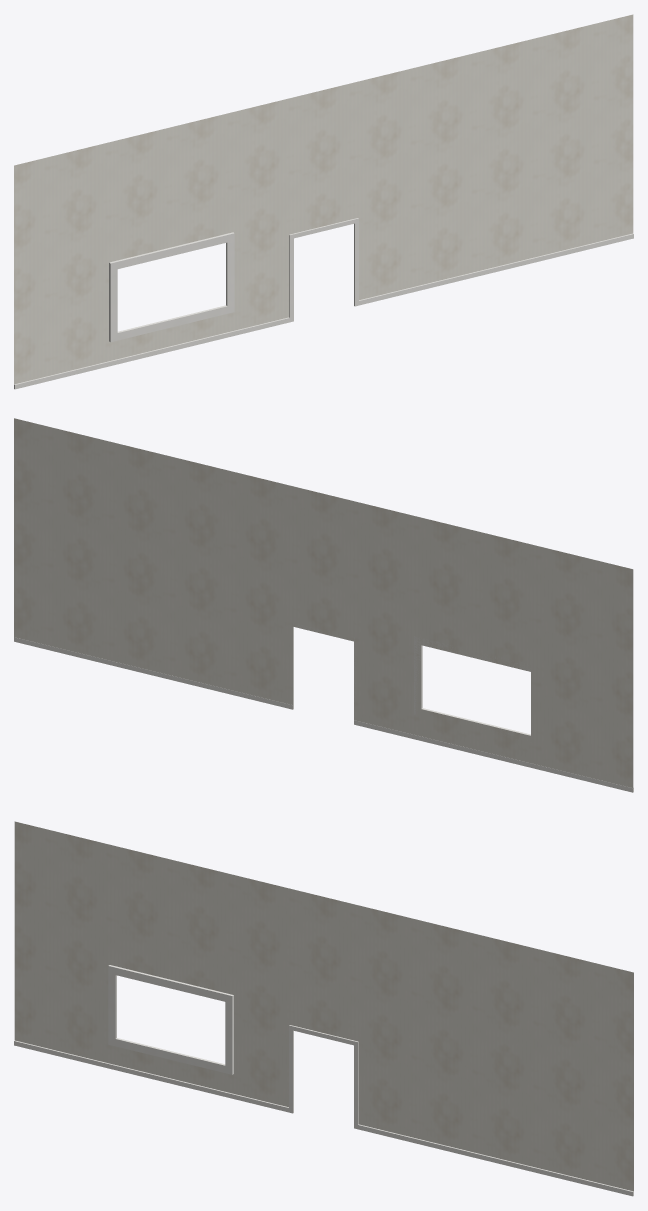
3 views of the same model, one above another, from view 1: azimuth 30°, elevation 25°; view 2: azimuth 150°, elevation 25°; view 3: azimuth 330°, elevation 25° (orthographic).
Visible parts, largest first — view 1: jx_wm_20_b51a8b22; view 2: jx_wm_20_b51a8b22; view 3: jx_wm_20_b51a8b22.
Part boxes in pixels (x1,y1,x2,y2): jx_wm_20_b51a8b22: [14, 14, 633, 389]; jx_wm_20_b51a8b22: [14, 418, 633, 792]; jx_wm_20_b51a8b22: [14, 821, 633, 1196].
Size of the model in its own units: 20.3 by 7 by 0.086.
Materials: 2 (2 with a texture image).
